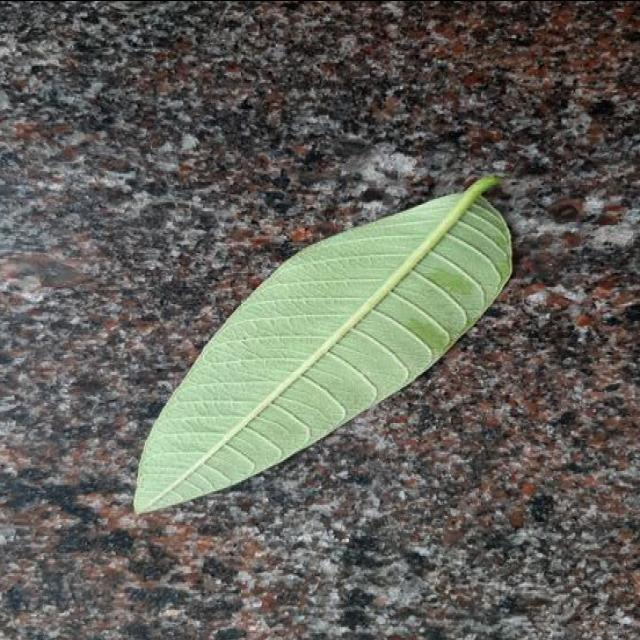leaf: (132, 173, 513, 515)
